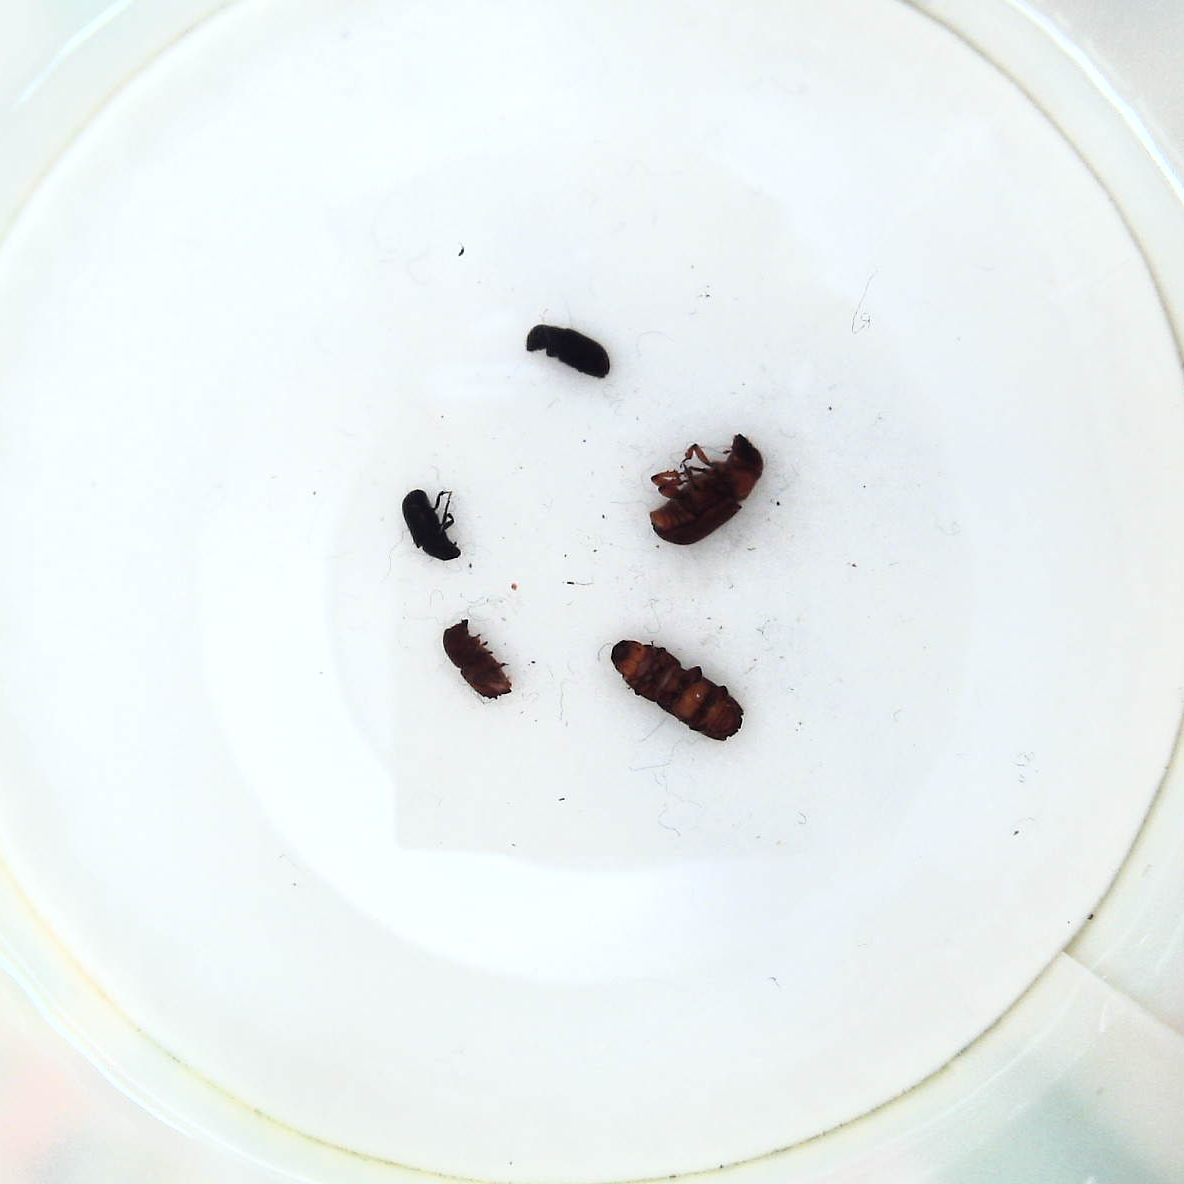Boerner: (603, 633, 744, 750)
Leconte: (651, 433, 771, 550)
armandi: (522, 318, 610, 386)
coleoptera: (395, 484, 464, 569)
linnaeus: (442, 618, 520, 706)
